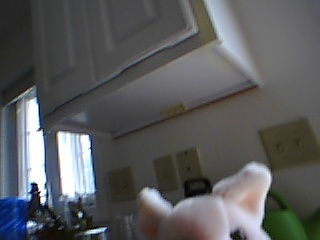piggy: (133, 160, 277, 240)
